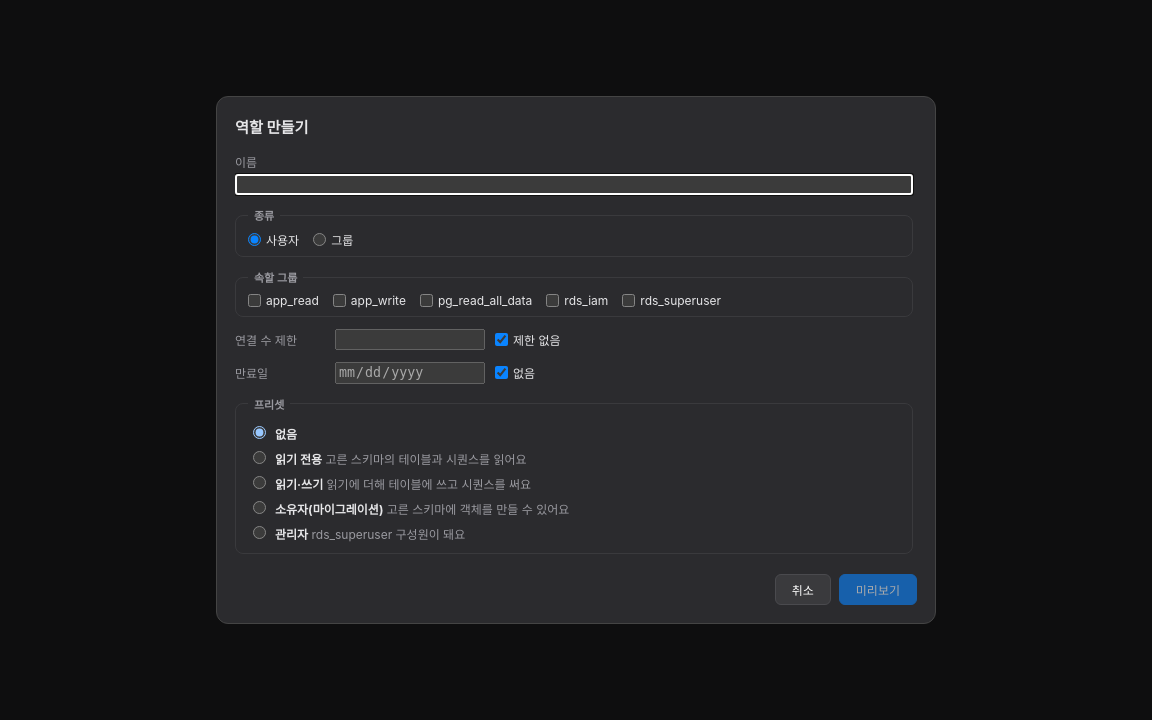
Scenario: the form › a limit that is not a number, or an expiry date left empty, keeps the preview off
Type "carol" into the field labelled "이름" at (574, 185), box [235,174,913,195]
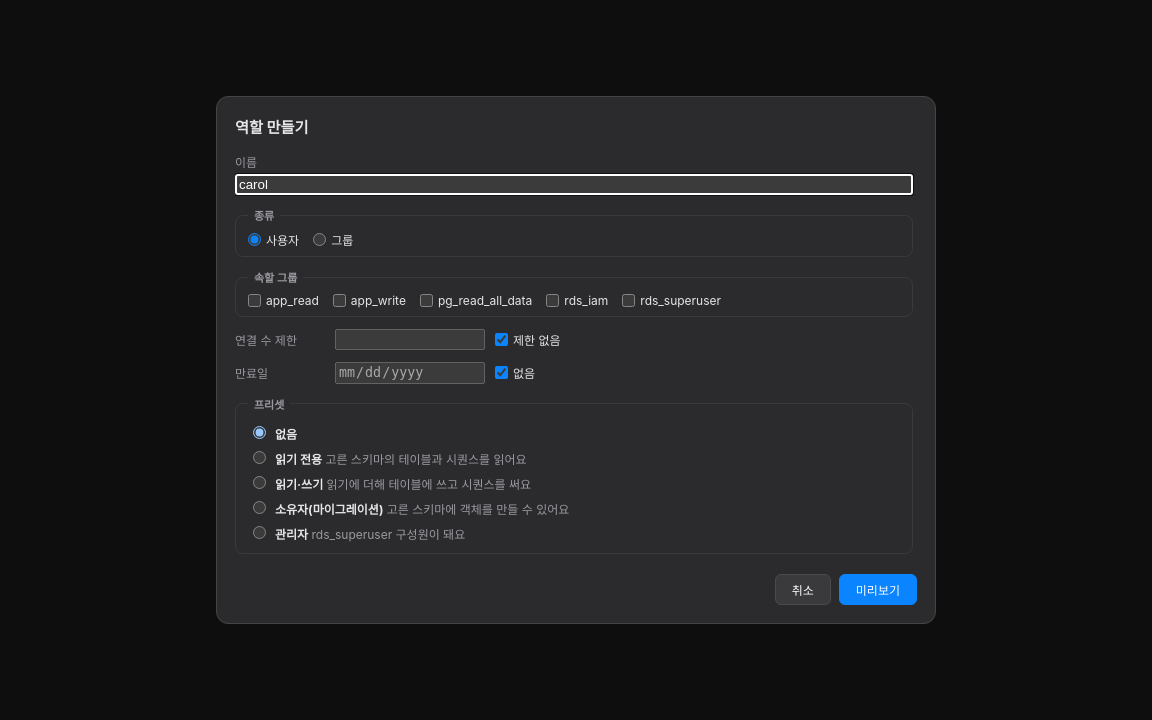
Click the checkbox labelled "제한 없음" at (502, 340), box [495,333,508,346]
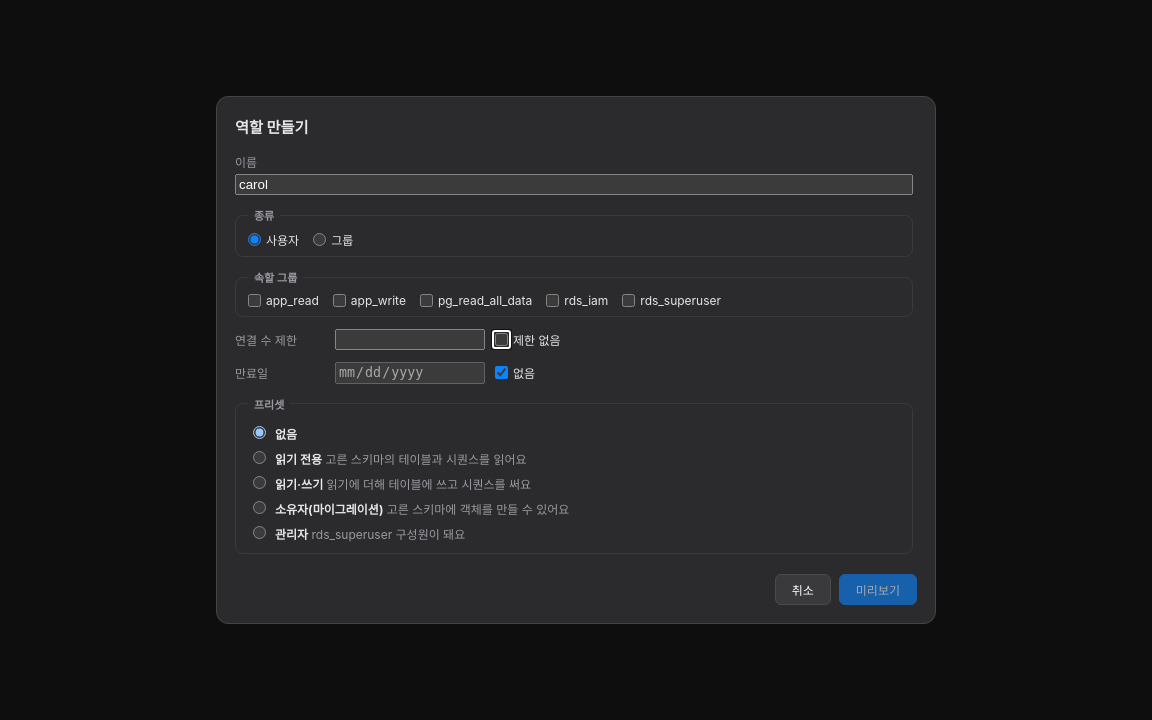
Expected: the button "미리보기" is disabled, [839,574,917,605]
Type "5" into the number field labelled "연결 수 제한" at (410, 340), box [335,329,485,350]
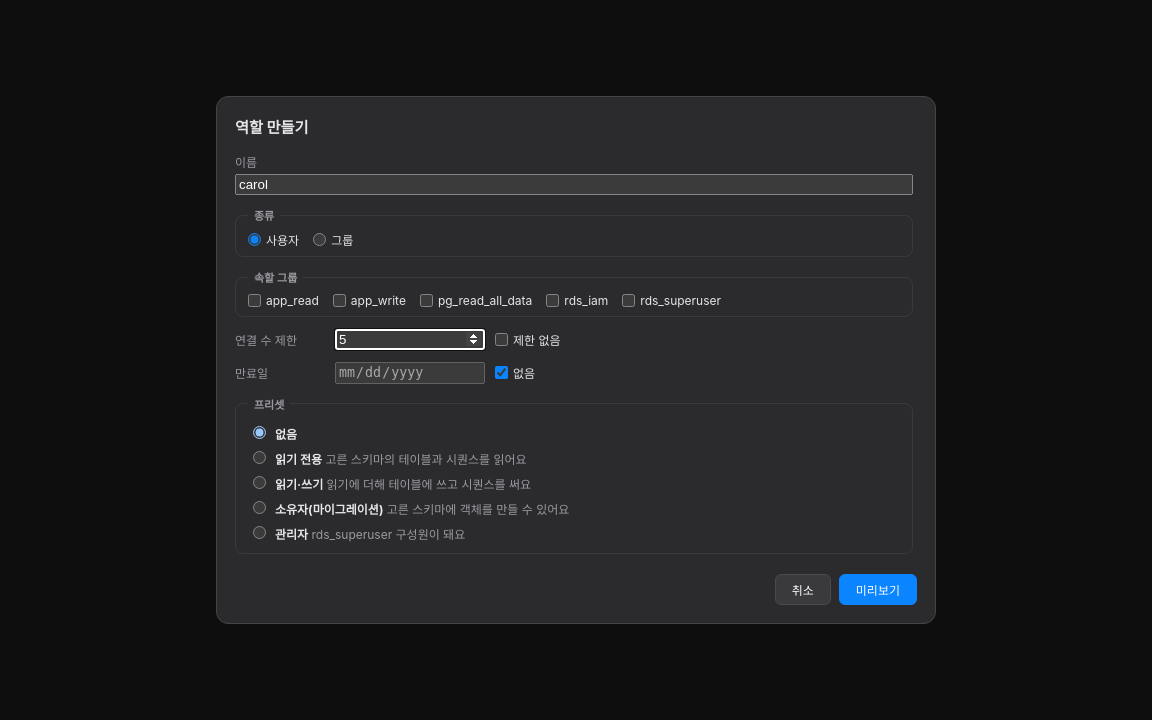
Expected: the button "미리보기" is enabled, [839,574,917,605]
Click the checkbox labelled "없음" at (502, 373), box [495,366,508,380]
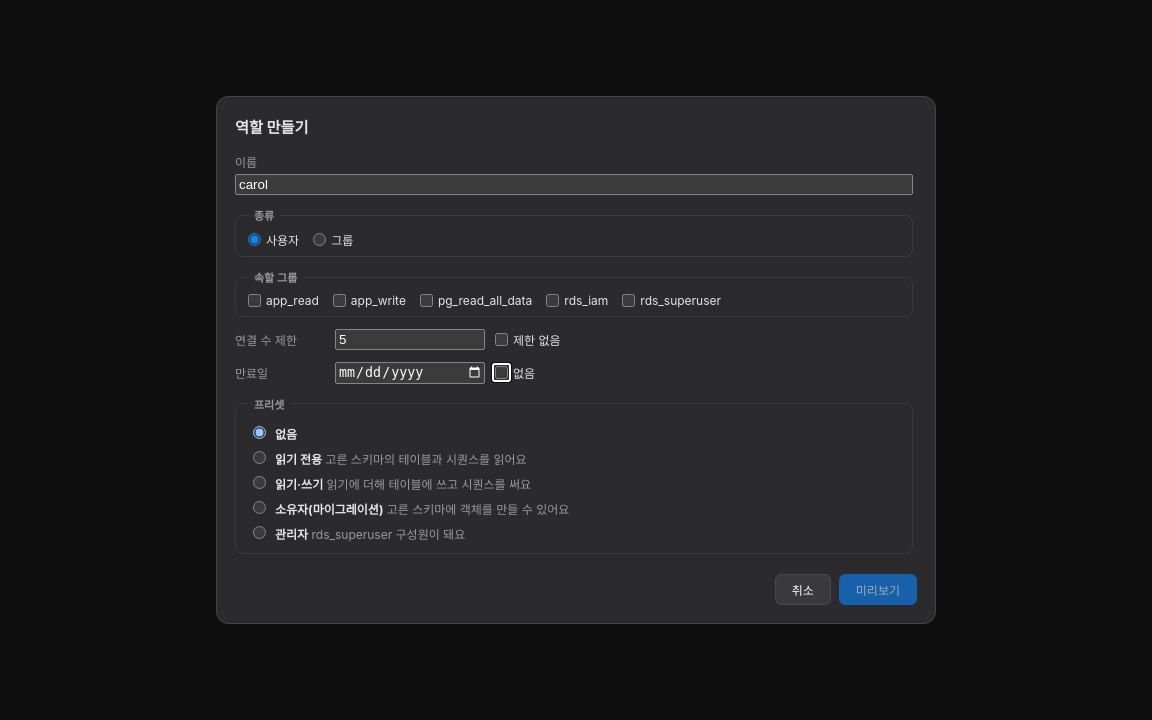
Expected: the button "미리보기" is disabled, [839,574,917,605]
